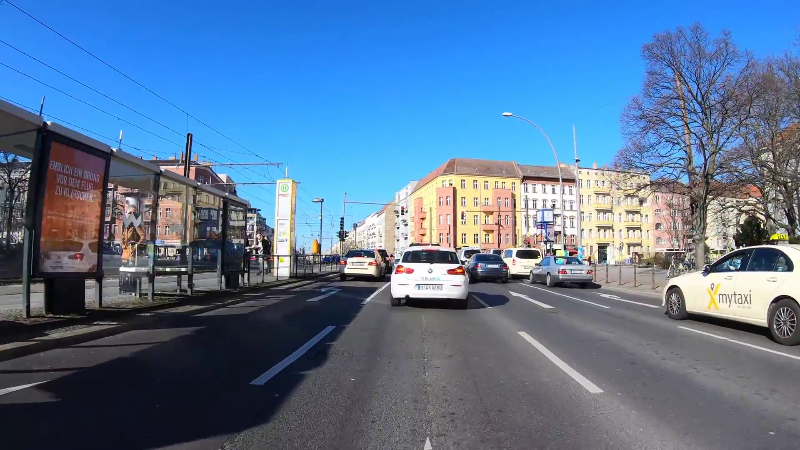Plate: (415, 282, 443, 291), (570, 268, 586, 275), (351, 261, 366, 267), (486, 263, 498, 268), (522, 264, 532, 269)
